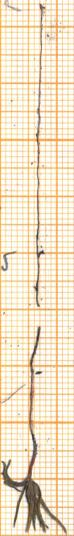flower: (0, 457, 74, 536)
root: (31, 9, 49, 310), (24, 323, 45, 369)
stem: (25, 372, 40, 459)
